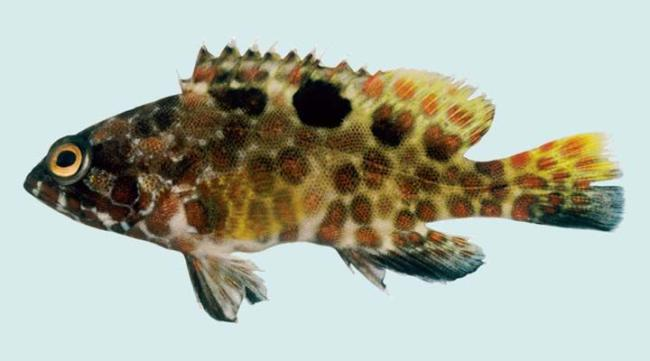fish: (23, 37, 625, 324)
